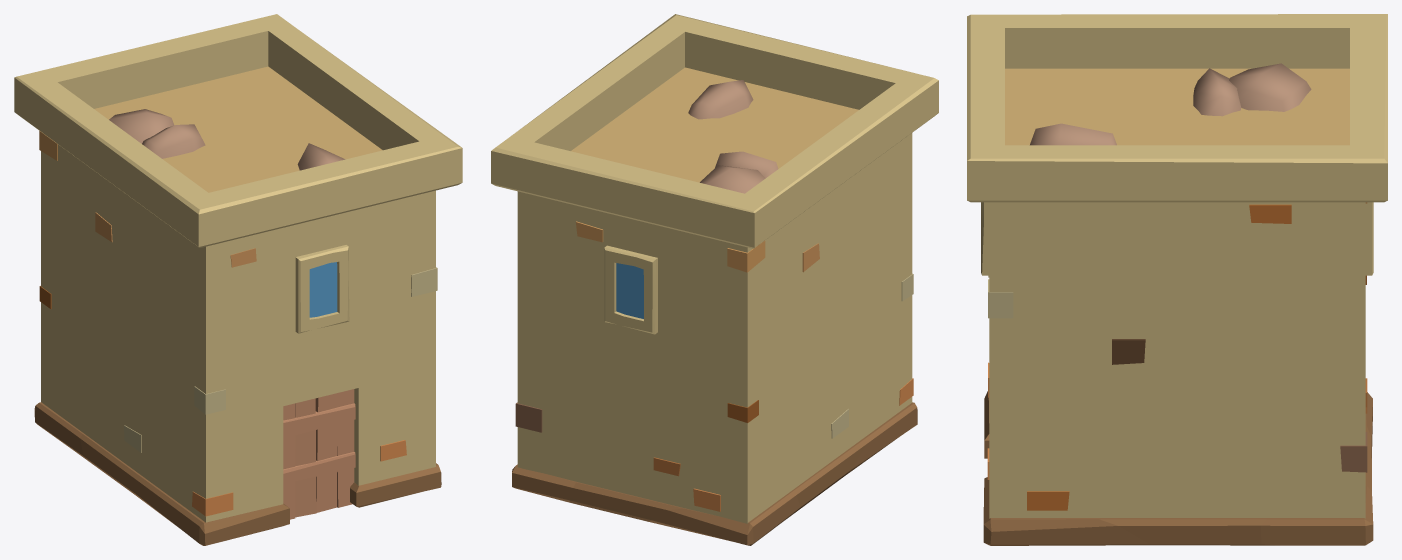
Rendered from House_A.fbx.
3 views of the same model, side by side, from view 1: azimuth 30°, elevation 25°; view 2: azimuth 150°, elevation 25°; view 3: azimuth 270°, elevation 25° (orthographic). The views are drawn at different scales.
Visible parts, largest first — view 1: House_A; view 2: House_A; view 3: House_A.
Boxes of the visible parts, x1,y1,x2,y2 form: House_A: (14,14,462,545); House_A: (491,14,938,545); House_A: (967,14,1387,545).
Bounding box in the file's own units: 408 × 510 × 494.
